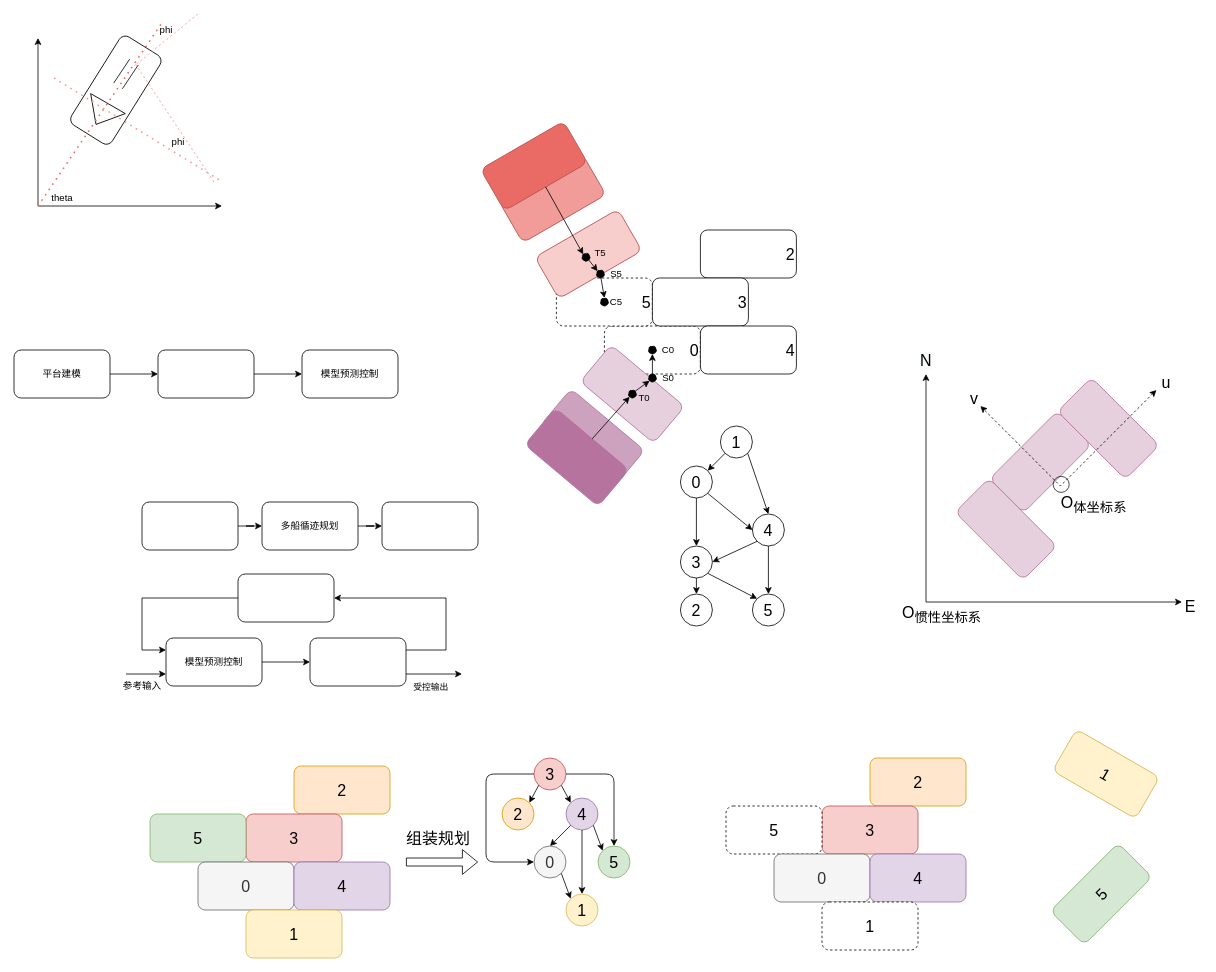
Some shapes in this 1216 by 972 pixel diagram are drawn without their labels. Each missing label, with the centre of its shape:
受控模型: point (357, 661)
多船对接控制: point (429, 525)
多船组装规划: point (189, 525)
模型参数估计: point (205, 373)
模型参数和状态估计: point (285, 597)
